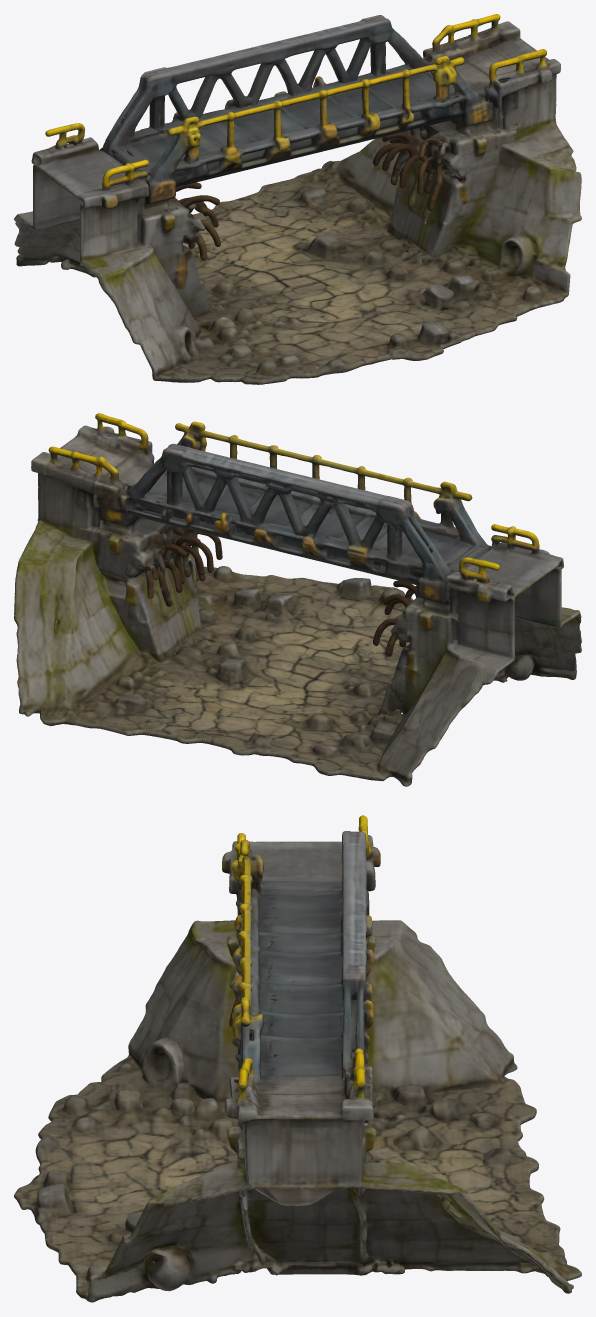
Rendered from bridge_temp.glb.
3 renders of one model, top to bottom at view 1: azimuth 30°, elevation 25°; view 2: azimuth 150°, elevation 25°; view 3: azimuth 270°, elevation 25°, orthographic. The views are drawn at different scales.
Parts seen in each view (by area): view 1: world; view 2: world; view 3: world.
Boxes of the visible parts, <box> form: world: <box>14,14,581,384</box>; world: <box>14,413,581,786</box>; world: <box>14,815,581,1302</box>.
Size of the model in its own units: 0.3 by 0.1348 by 0.2436.
Materials: 1 (1 with a texture image).
